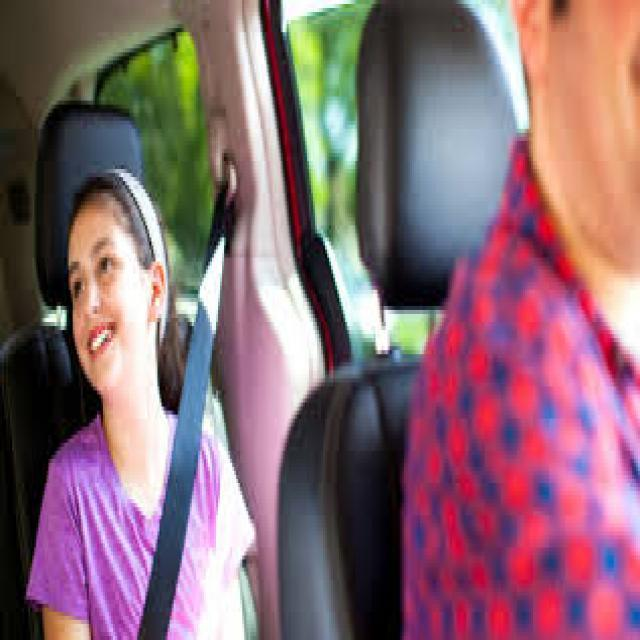seatbelt: (137, 137, 240, 640)
